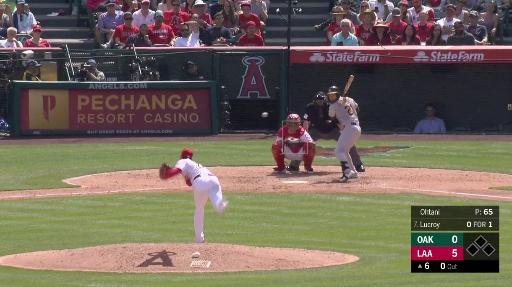pitcher: (159, 147, 235, 246)
